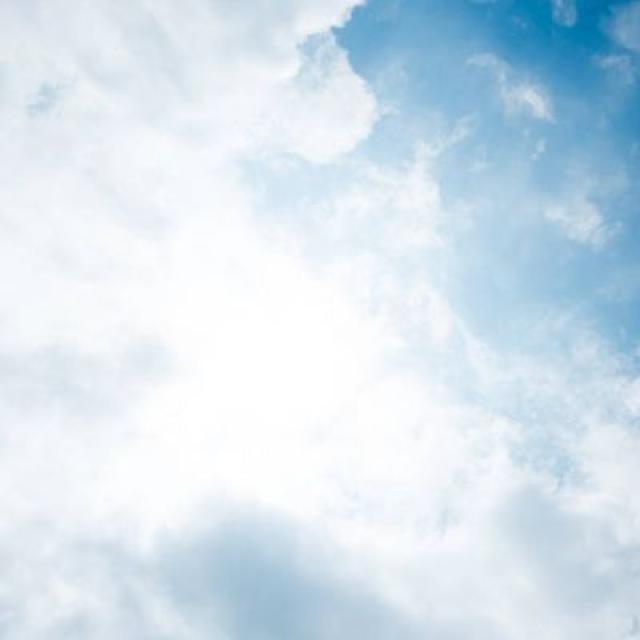As: (1, 41, 640, 640)
